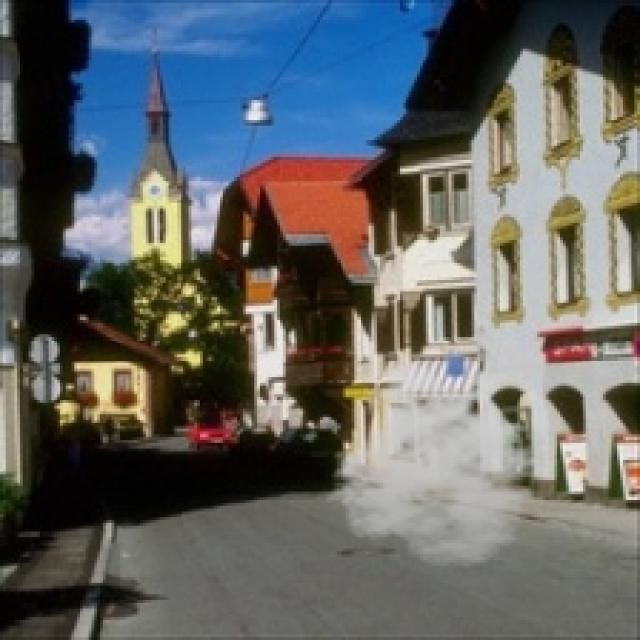smoke: (323, 360, 566, 569)
